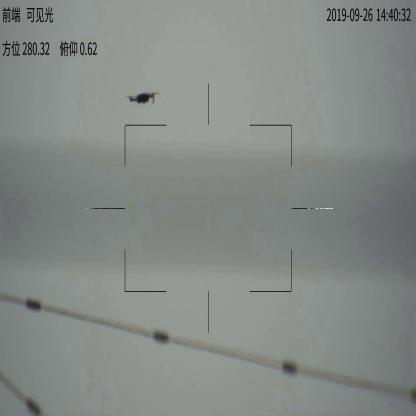uav: (125, 91, 161, 107)
